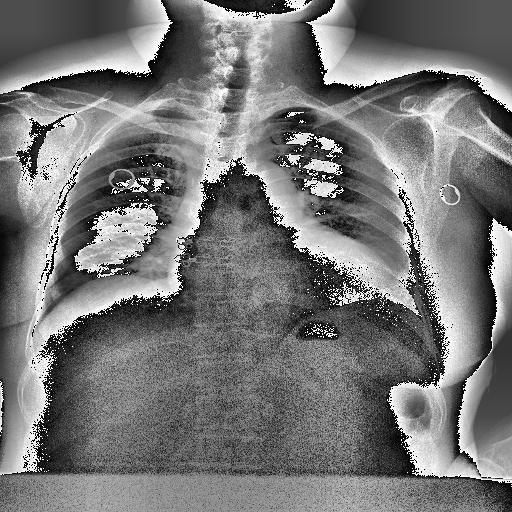0- Aortic enlargement: (254, 162, 302, 222)
3- Cardiomegaly: (168, 224, 396, 307), (172, 240, 396, 314), (164, 236, 394, 308)
